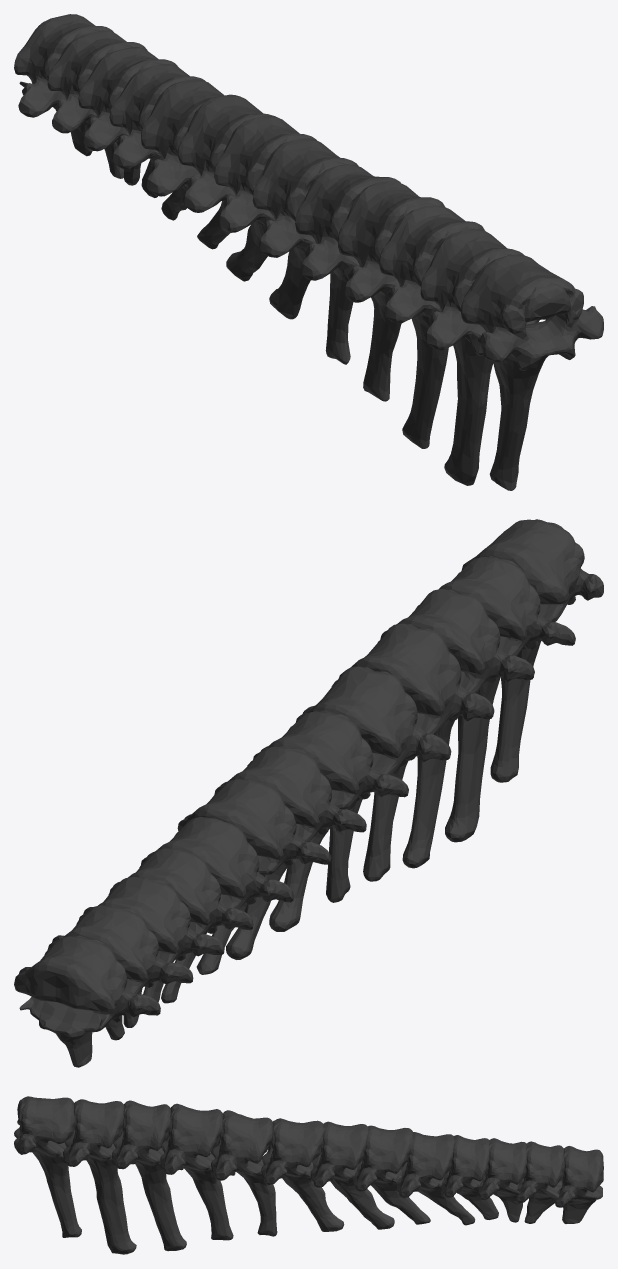
Rendered from b_thoracic_vertebra.glb.
The picture shows the model from 3 angles, top to bottom: view 1: azimuth 30°, elevation 25°; view 2: azimuth 150°, elevation 25°; view 3: azimuth 270°, elevation 25°; orthographic projection. The views are drawn at different scales.
Visible parts, largest first — view 1: b_thoracic_vertebra; view 2: b_thoracic_vertebra; view 3: b_thoracic_vertebra.
Part boxes in pixels (x1,y1,x2,y2): b_thoracic_vertebra: [14, 14, 603, 490]; b_thoracic_vertebra: [14, 519, 603, 1067]; b_thoracic_vertebra: [14, 1096, 603, 1254].
Bounding box in the file's own units: 0.0136 × 0.0229 × 0.0793.
1 material, 1 textured.
